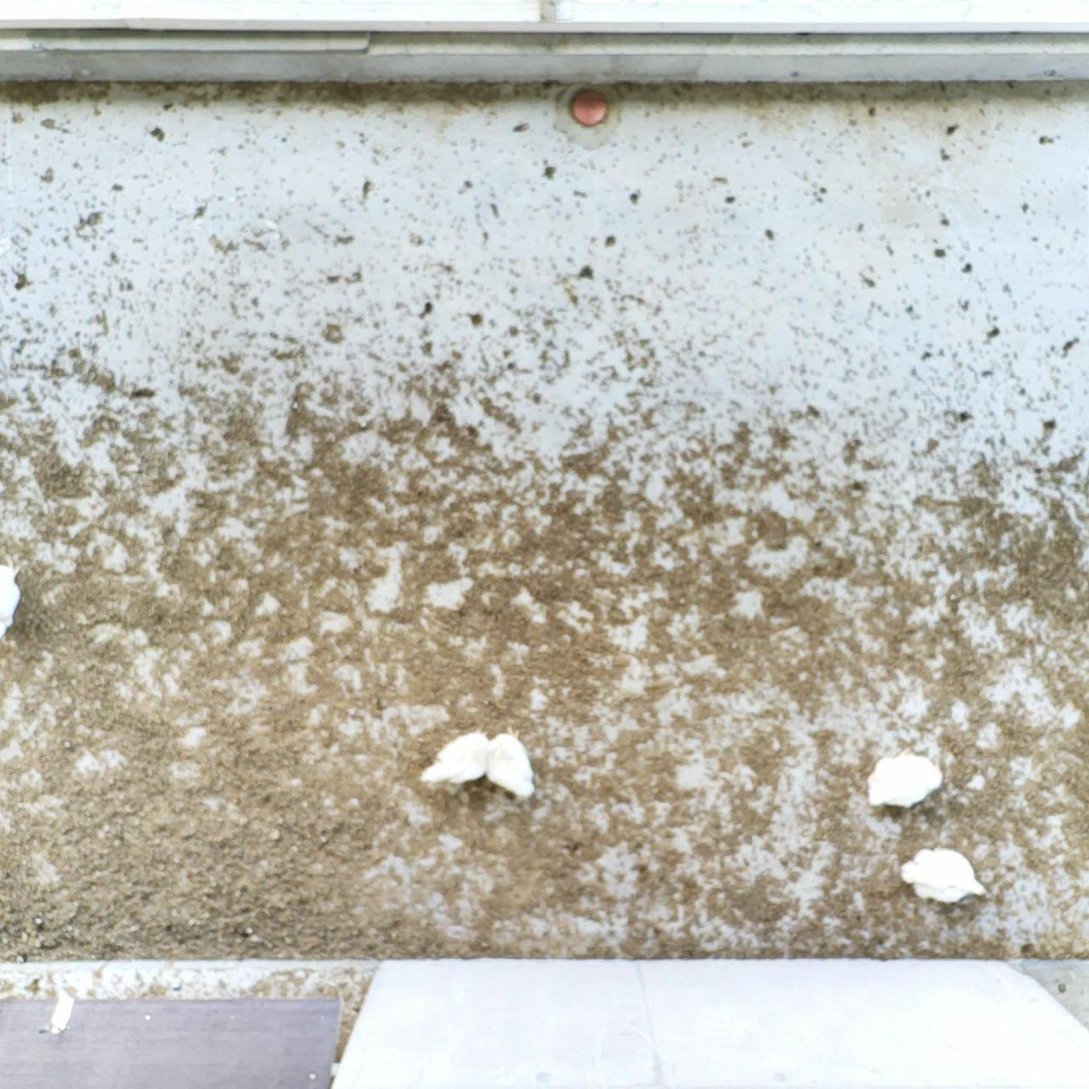chicken: (900, 837, 990, 909), (866, 750, 950, 812), (483, 723, 545, 802), (420, 732, 494, 795), (0, 549, 26, 636)
